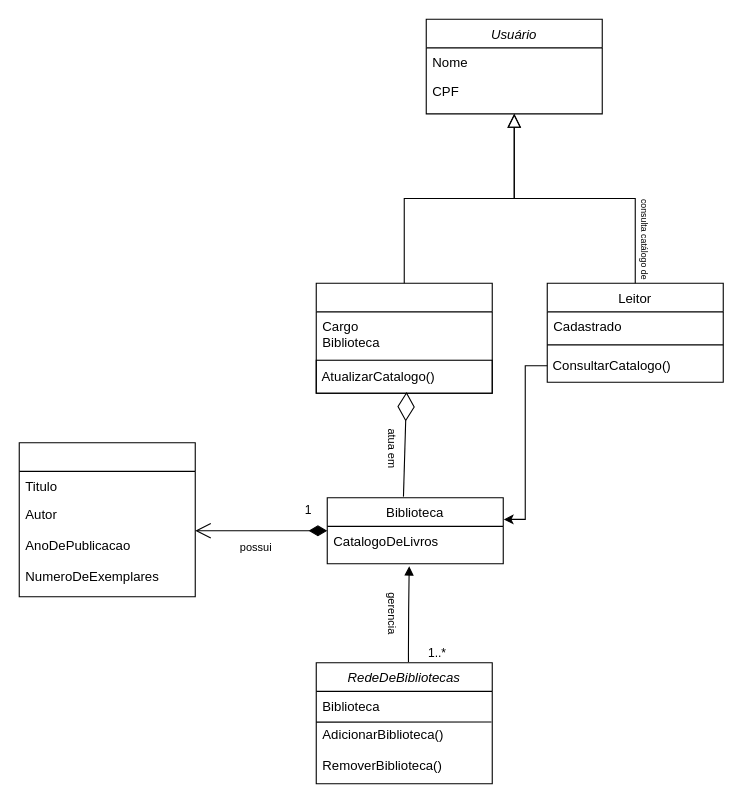
This 743x803 diagram has some shape labels left out. Here are the shapes that lost their labels. From the top down, the box of each, then its label:
(315, 282, 492, 393): Funcionário
(18, 442, 195, 597): Livro
